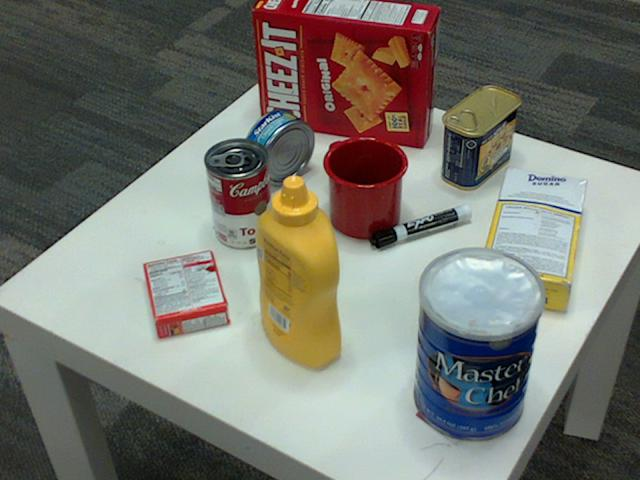cracker_box: (254, 0, 439, 147)
gelatin_box: (139, 249, 226, 338)
large_marker: (370, 208, 472, 247)
master_chef_can: (415, 249, 547, 443)
mug: (320, 135, 407, 238)
mustard_bottle: (255, 177, 340, 368)
potted_meat_can: (440, 87, 518, 190)
sugar_box: (475, 167, 585, 314)
tomato_soup_can: (204, 139, 273, 249)
tuna_fish_can: (241, 108, 313, 185)
